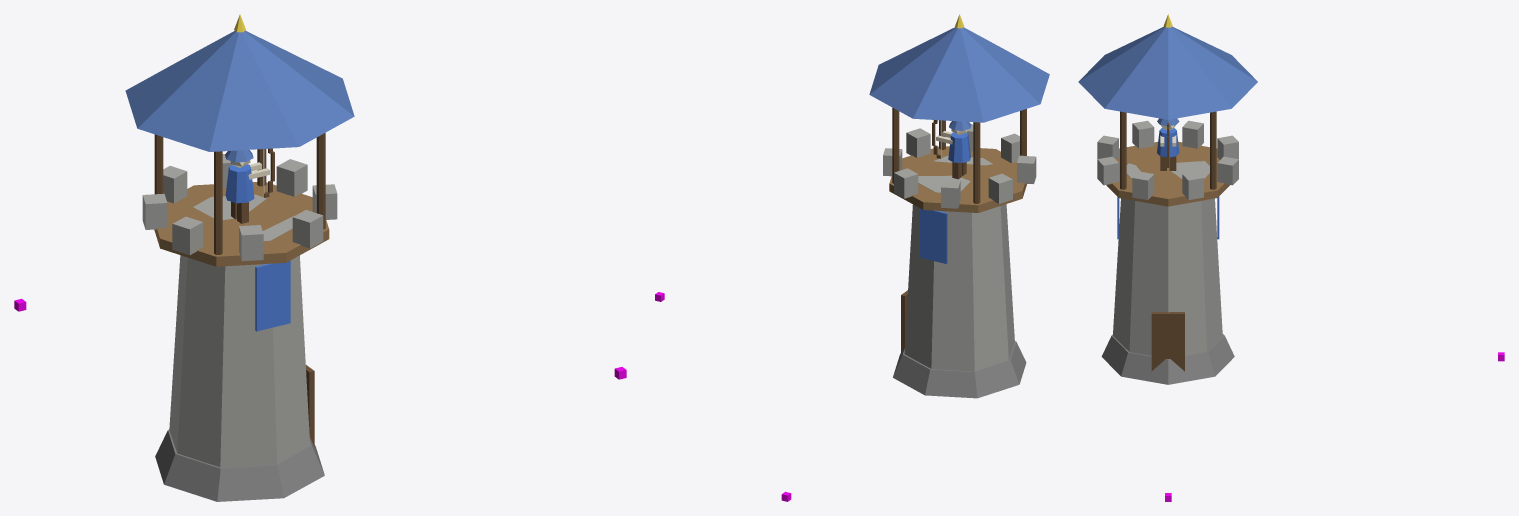
File: LP_ArcherTower.fbx
3 views of the same model, side by side, from view 1: azimuth 30°, elevation 25°; view 2: azimuth 150°, elevation 25°; view 3: azimuth 270°, elevation 25° (orthographic). The views are drawn at different scales.
Visible parts, largest first — view 1: Tower_Body, Tower_Archer; view 2: Tower_Body, Tower_Archer; view 3: Tower_Body, Tower_Archer.
Part boxes in pixels (x1,y1,x2,y2): Tower_Body: [125, 14, 354, 501]; Tower_Archer: [225, 148, 274, 223]; Tower_Body: [869, 14, 1049, 398]; Tower_Archer: [932, 120, 971, 179]; Tower_Body: [1078, 14, 1257, 384]; Tower_Archer: [1157, 118, 1179, 170].
Size of the model in its own units: 12.8 by 11.47 by 12.8.
